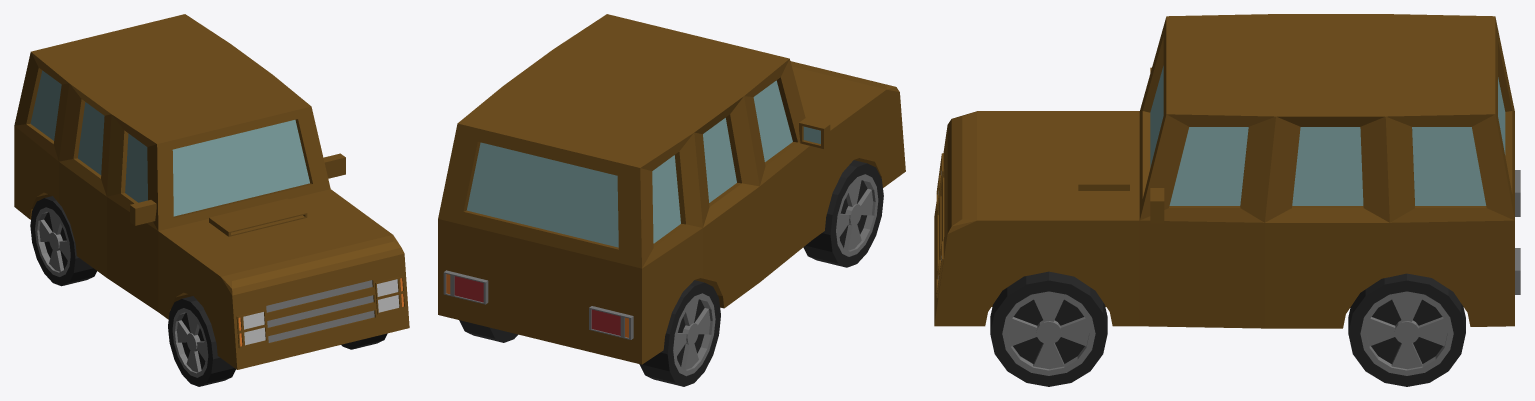
The model's file is SuvCar(Old).fbx.
The picture shows the model from 3 angles, left to right: view 1: azimuth 30°, elevation 25°; view 2: azimuth 150°, elevation 25°; view 3: azimuth 270°, elevation 25°; orthographic projection. The views are drawn at different scales.
Visible parts, largest first — view 1: Cube, FRightTire, RRightTire; view 2: Cube, FRightTire, RRightTire, RLeftTire; view 3: Cube, FLeftTire, RLeftTire.
Boxes of the visible parts, box(x1,y1,x2,y2) form: Cube: box(14, 14, 409, 369); FRightTire: box(168, 296, 235, 386); RRightTire: box(30, 196, 96, 286); Cube: box(438, 14, 905, 364); FRightTire: box(803, 160, 883, 267); RRightTire: box(639, 280, 720, 386); RLeftTire: box(459, 320, 517, 342); Cube: box(934, 14, 1520, 328); FLeftTire: box(990, 271, 1107, 386); RLeftTire: box(1348, 273, 1465, 386).
Size of the model in its own units: 147 by 135 by 271.
